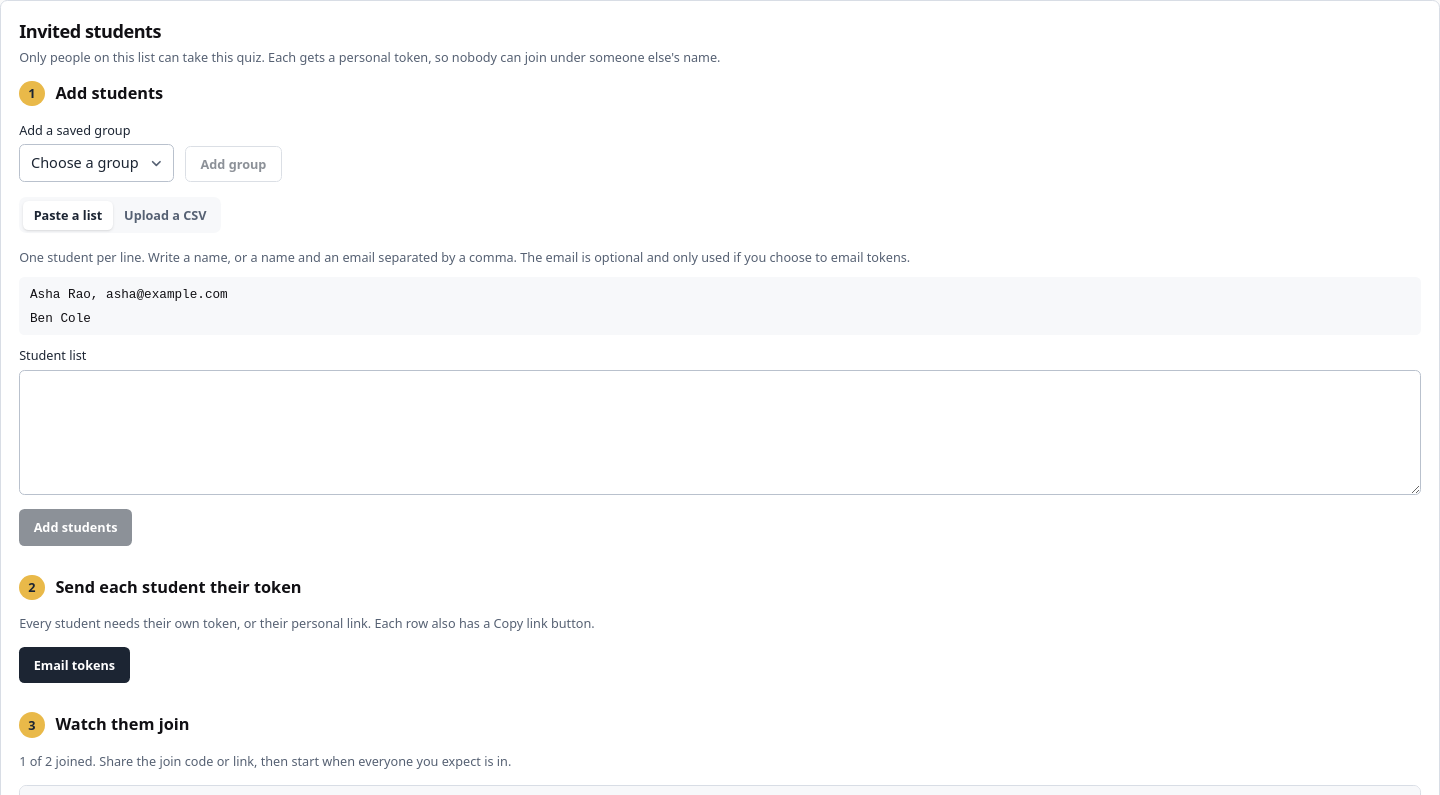
Test case: RosterPanel › adds a saved group to the roster, skipping students already on the list
Click the dropdown named "Add a saved group". click: (97, 163)
box: x1=19 y1=144 x2=174 y2=182
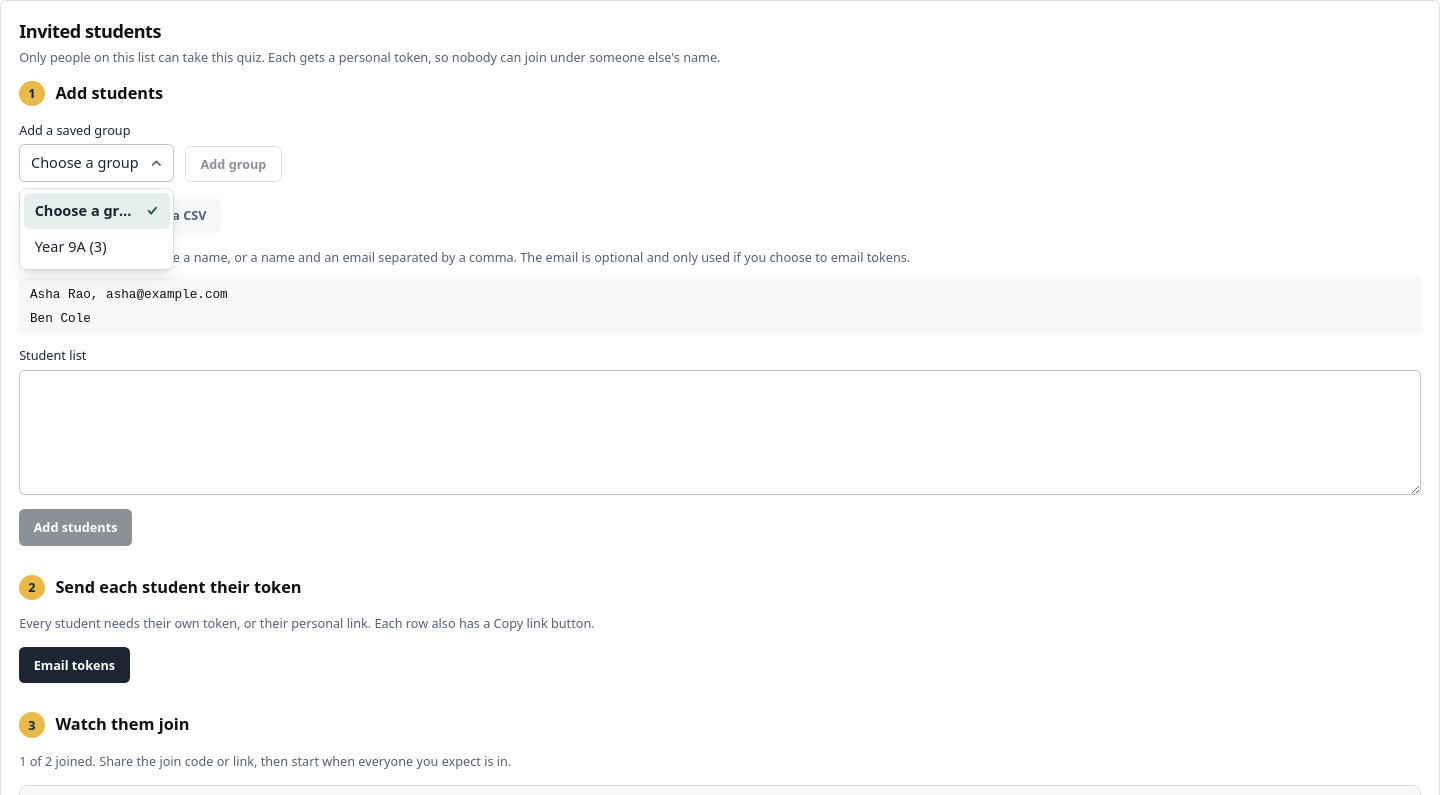
Click the option "Year 9A (3)". click: (71, 246)
box: x1=35 y1=236 x2=106 y2=256
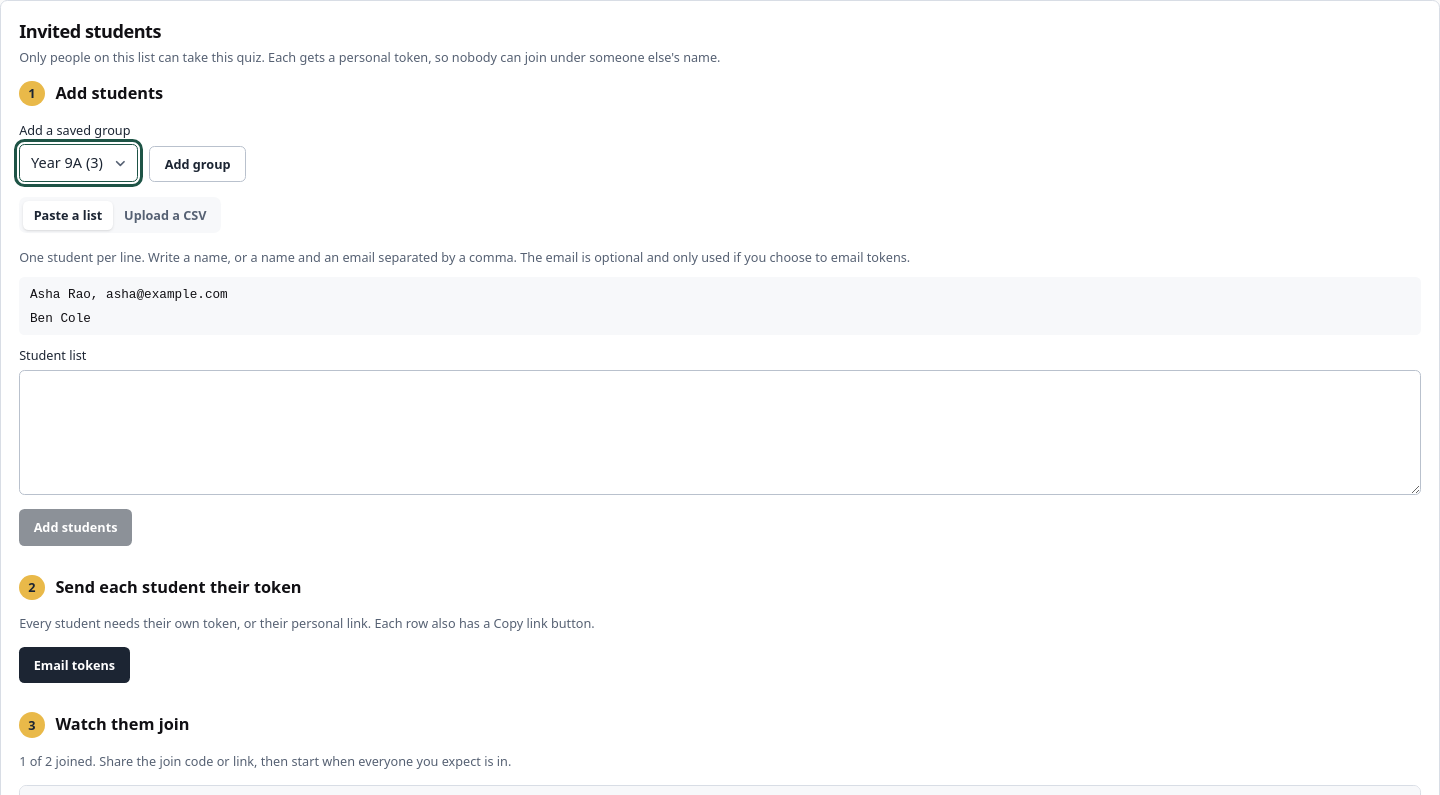
Click the button "Add group". click: (198, 164)
box: x1=149 y1=146 x2=246 y2=182
(page scrolled)
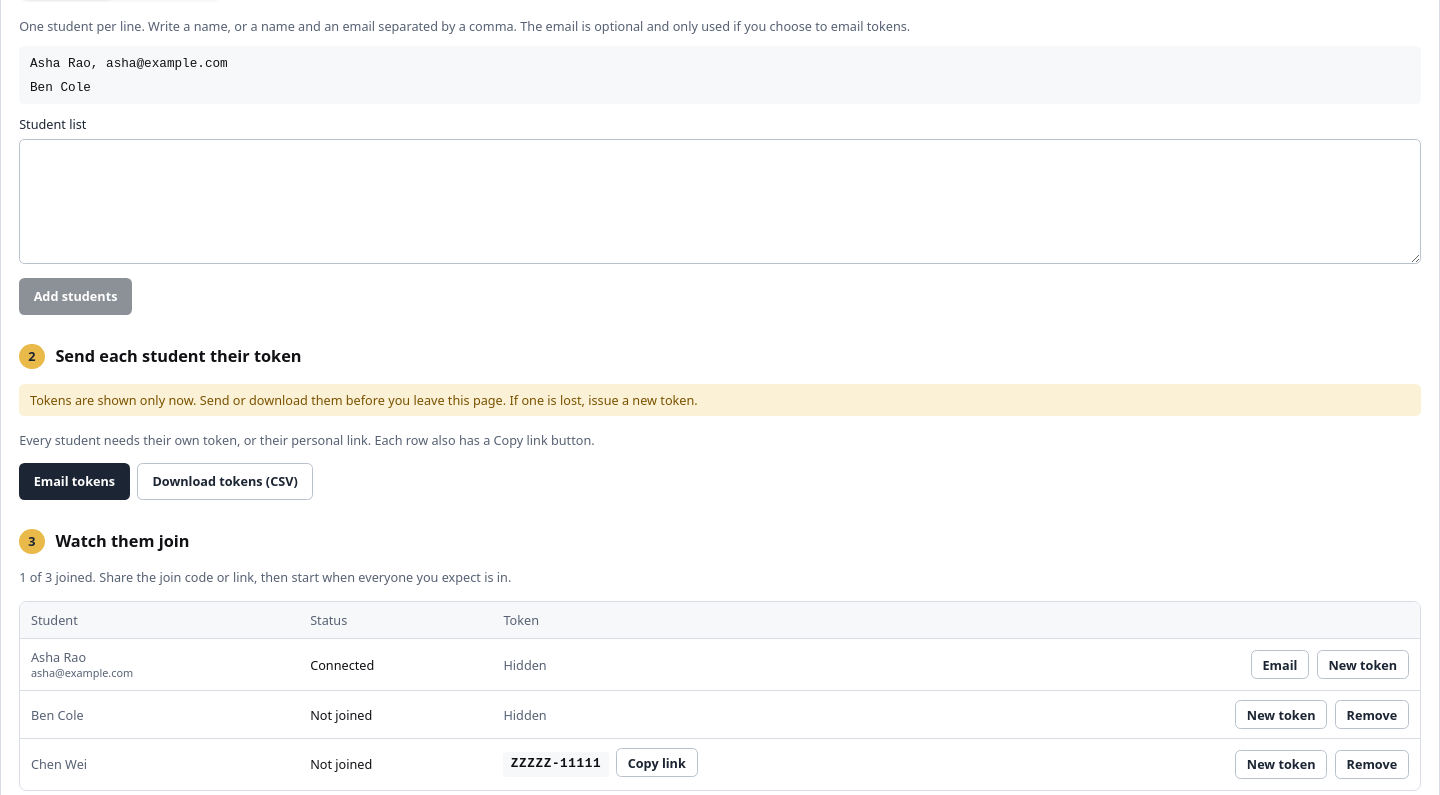
Result: the text "ZZZZZ-11111" is shown at x1=503 y1=752 x2=608 y2=777
